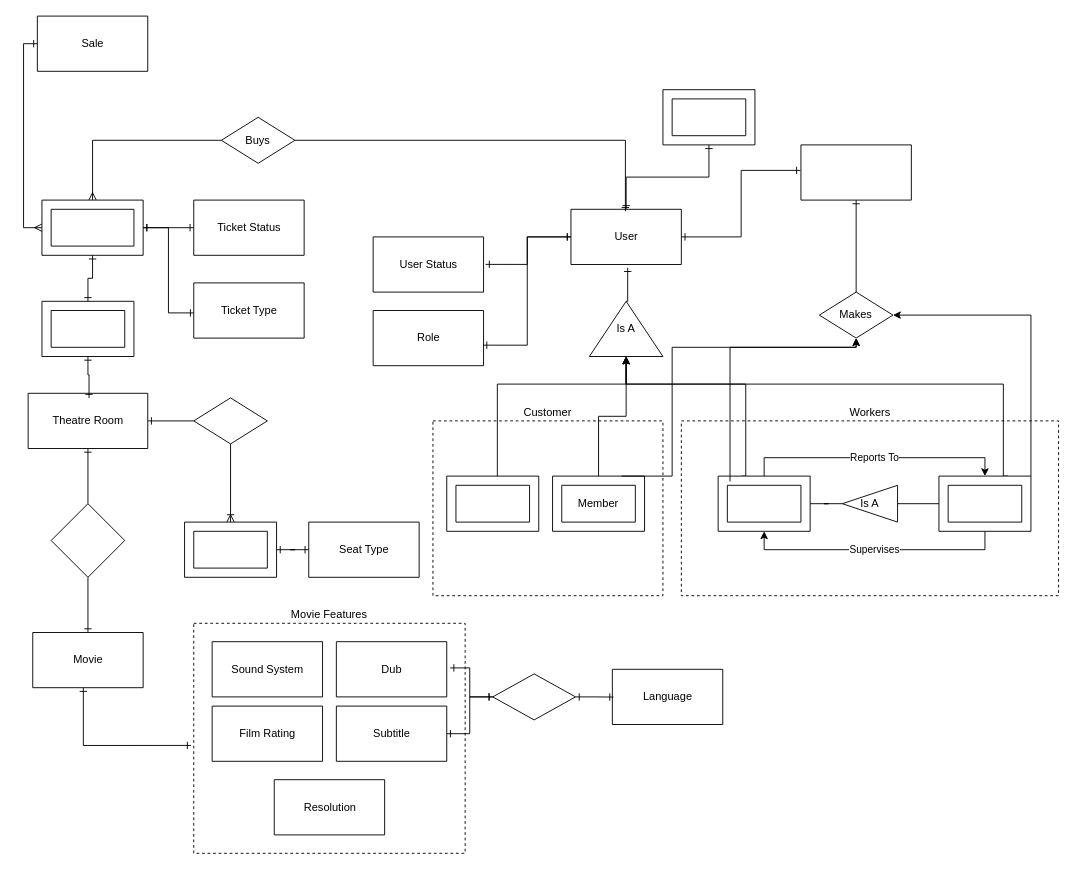
The diagram is 1075 pixels wide and 869 high, and some of its shapes have lost their labels. The centre of each missing label's shape, as x and y in pixels:
"Account" belongs at point 855,172.
"Admin" belongs at point 984,503.
"Contains" belongs at point 230,420.
"Employee" belongs at point 763,503.
"Guest" belongs at point 492,503.
"Has a" belongs at point 534,696.
"Payment Information" belongs at point 708,117.
"Seat" belongs at point 230,549.
"Showing" belongs at point 87,328.
"Shows a" belongs at point 87,540.
"Ticket" belongs at point 92,227.
